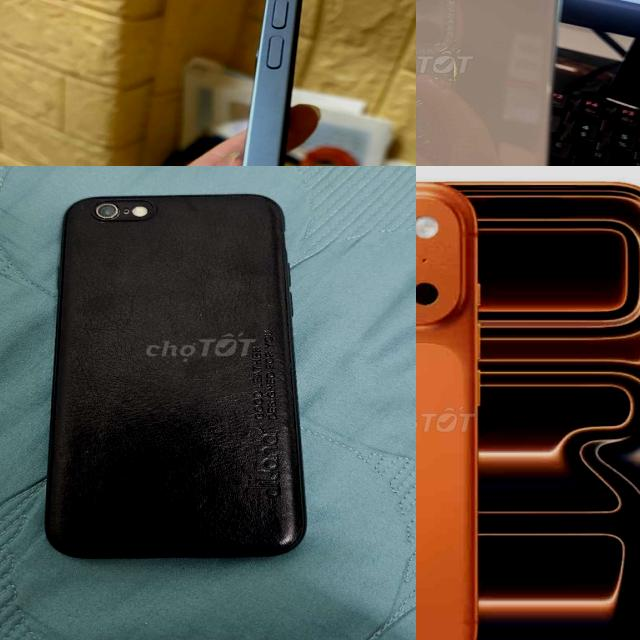gen_14: (194, 0, 323, 166)
gen_17: (416, 181, 480, 640)
gen_6: (36, 189, 332, 572)
gen_x_xs: (416, 0, 576, 166)
